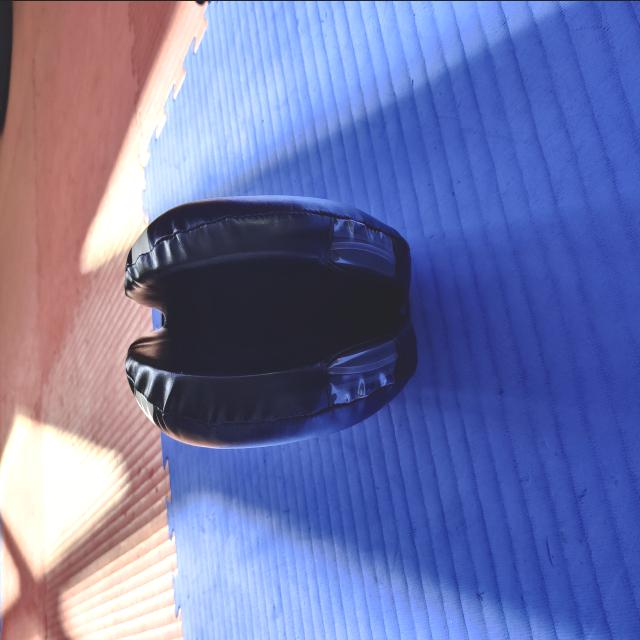paddle: (118, 192, 422, 452)
